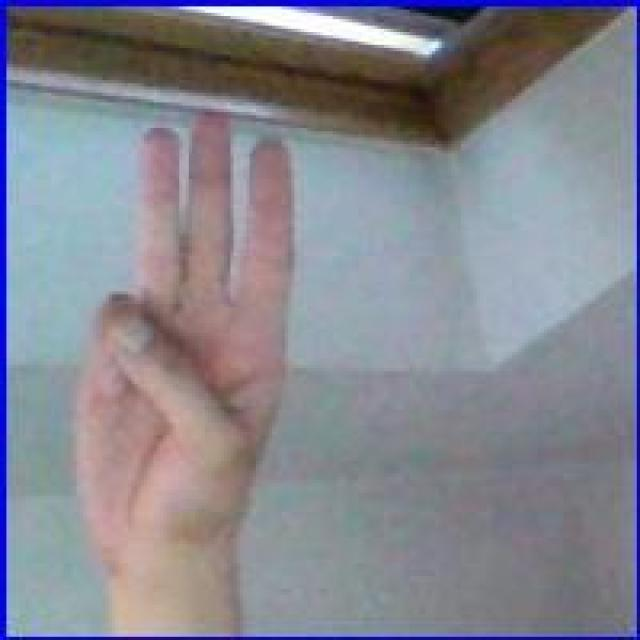W: (67, 104, 298, 562)
